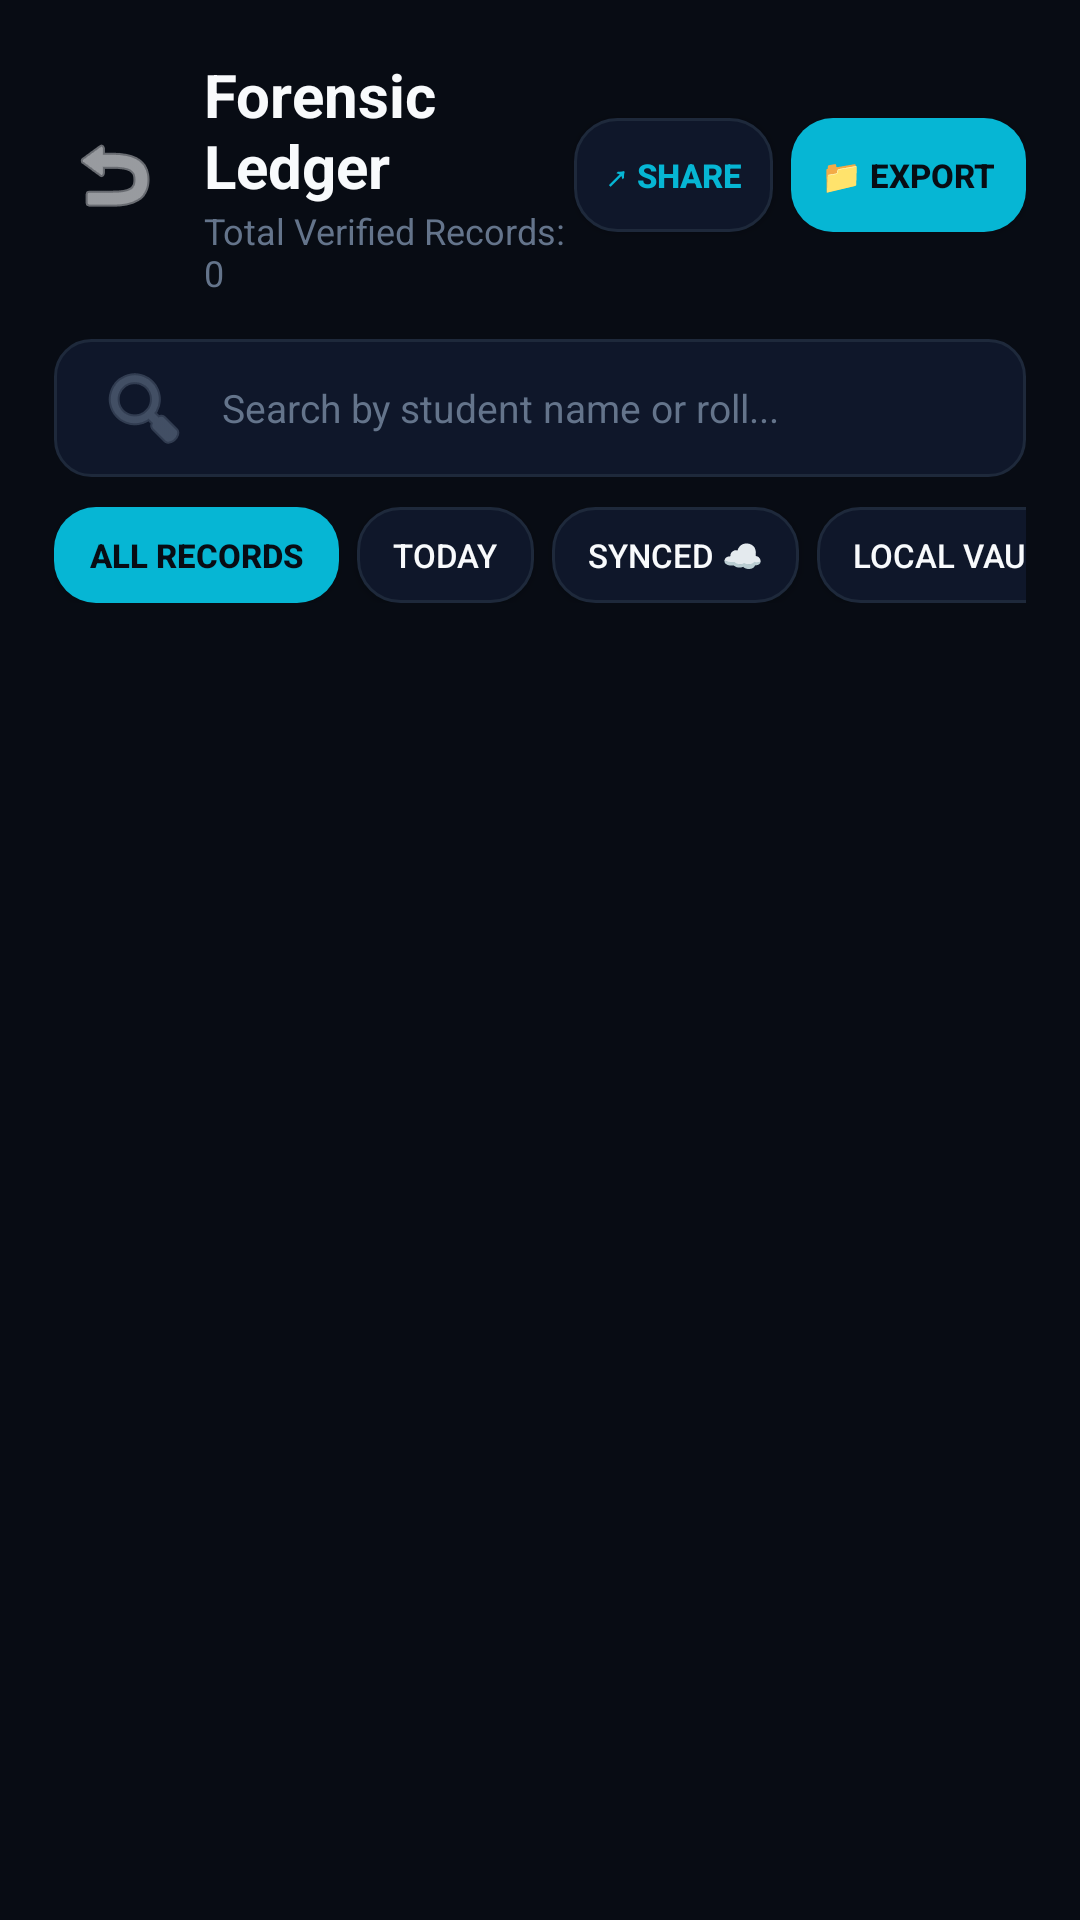

Icon click points for this 1080 x 1920 phone screenshot, format [x,y]:
revert: [115,175]
